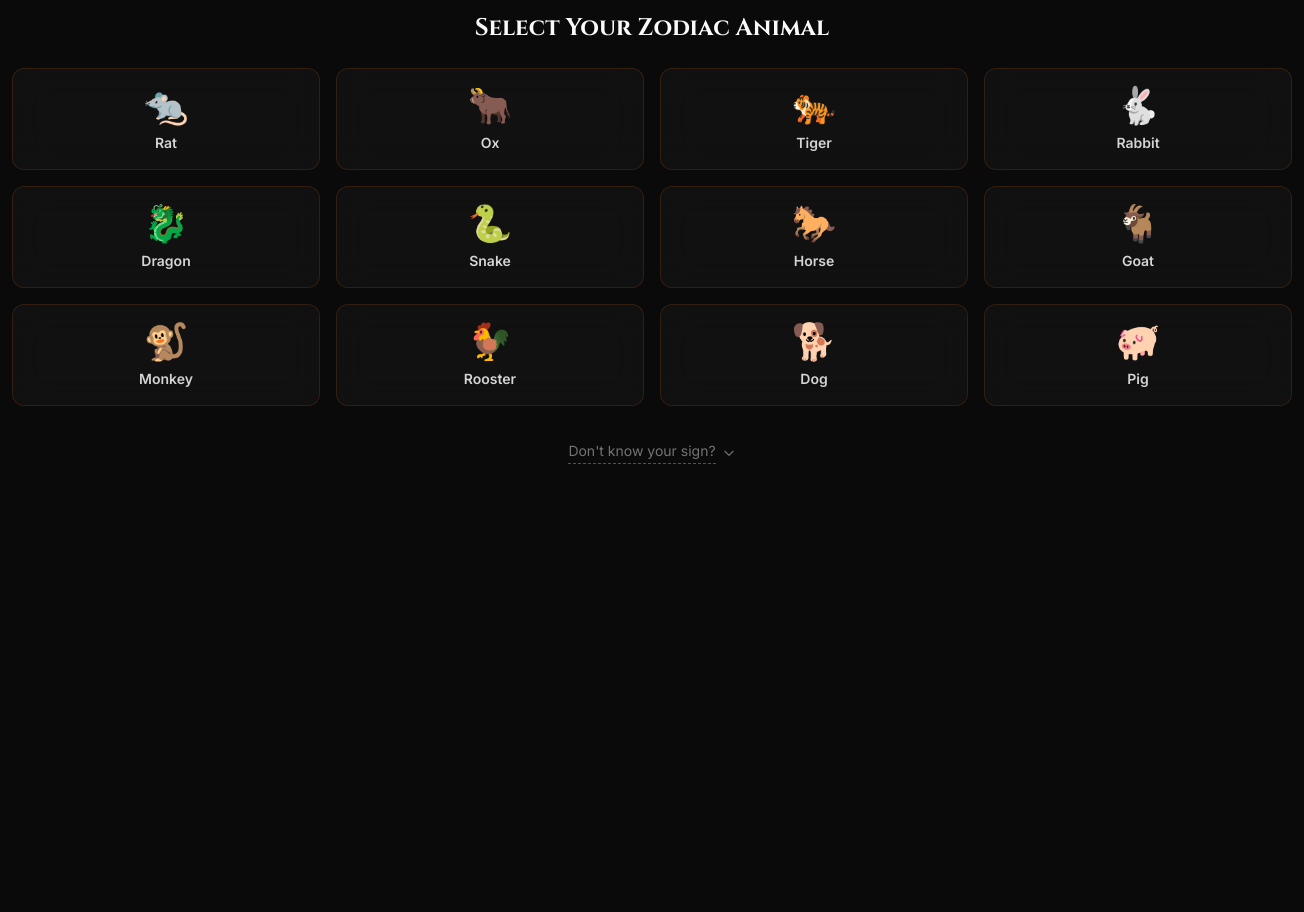
Scenario: ZodiacSelector › Birthdate Result › setting year=1990, month=3, day=15 shows Horse result with emoji
The width and height of the screenshot is (1304, 912).
Click the button "Don't know your sign?" at [652, 452], box [568, 441, 736, 464]
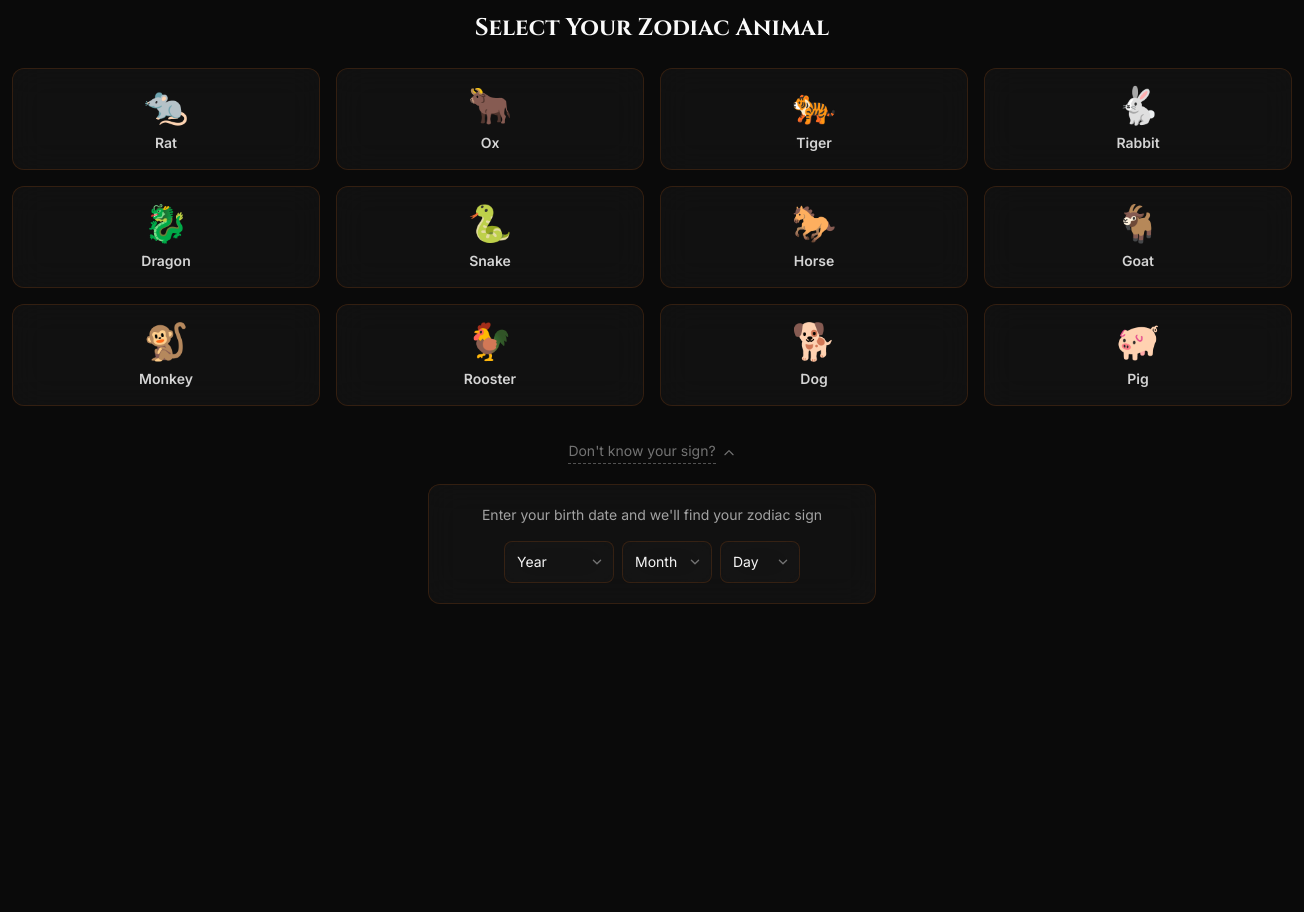
Select "1990" in the 1st dropdown at [559, 562], box [504, 541, 614, 583]
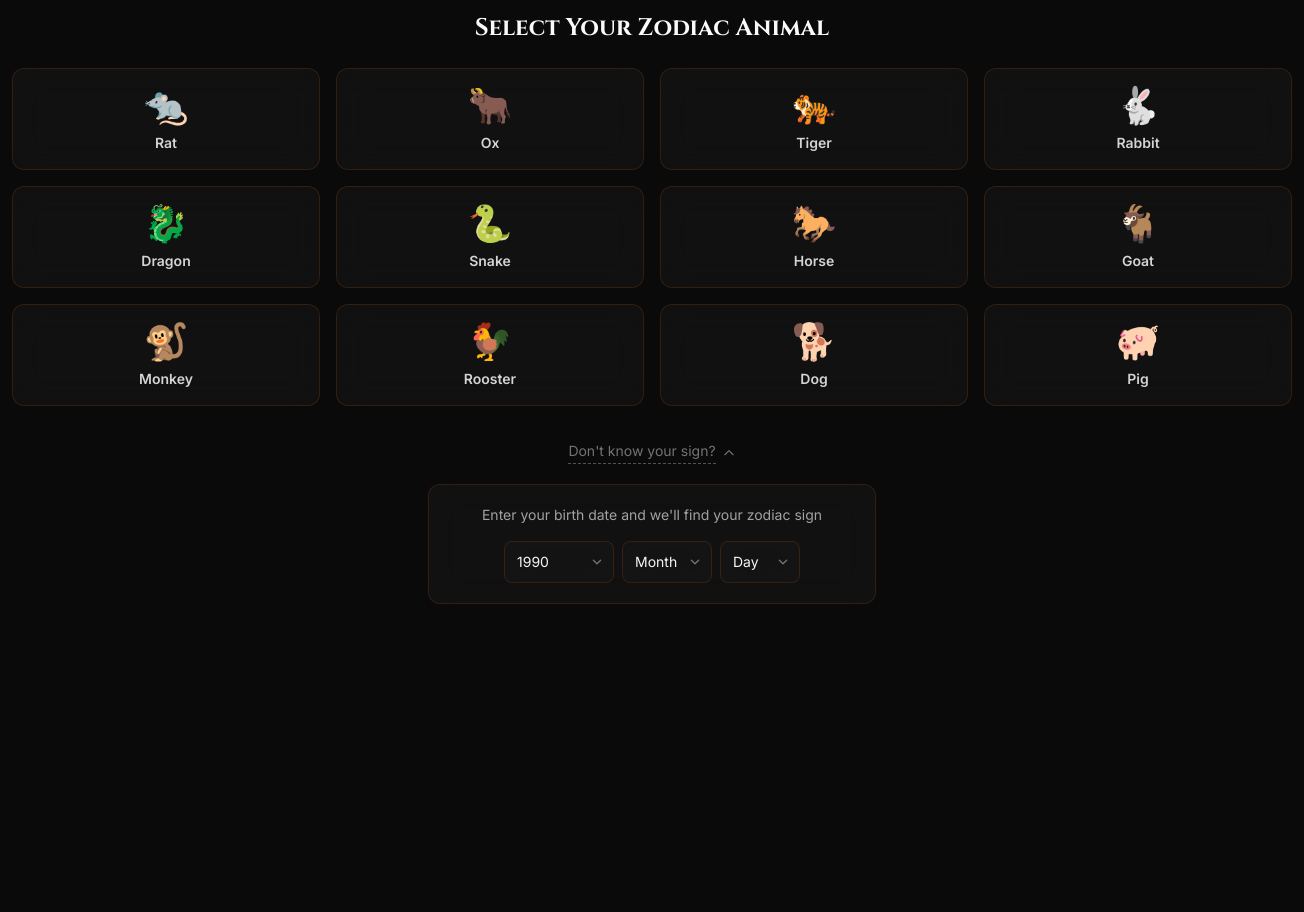
Select "Mar" in the 2nd dropdown at [667, 562], box [622, 541, 712, 583]
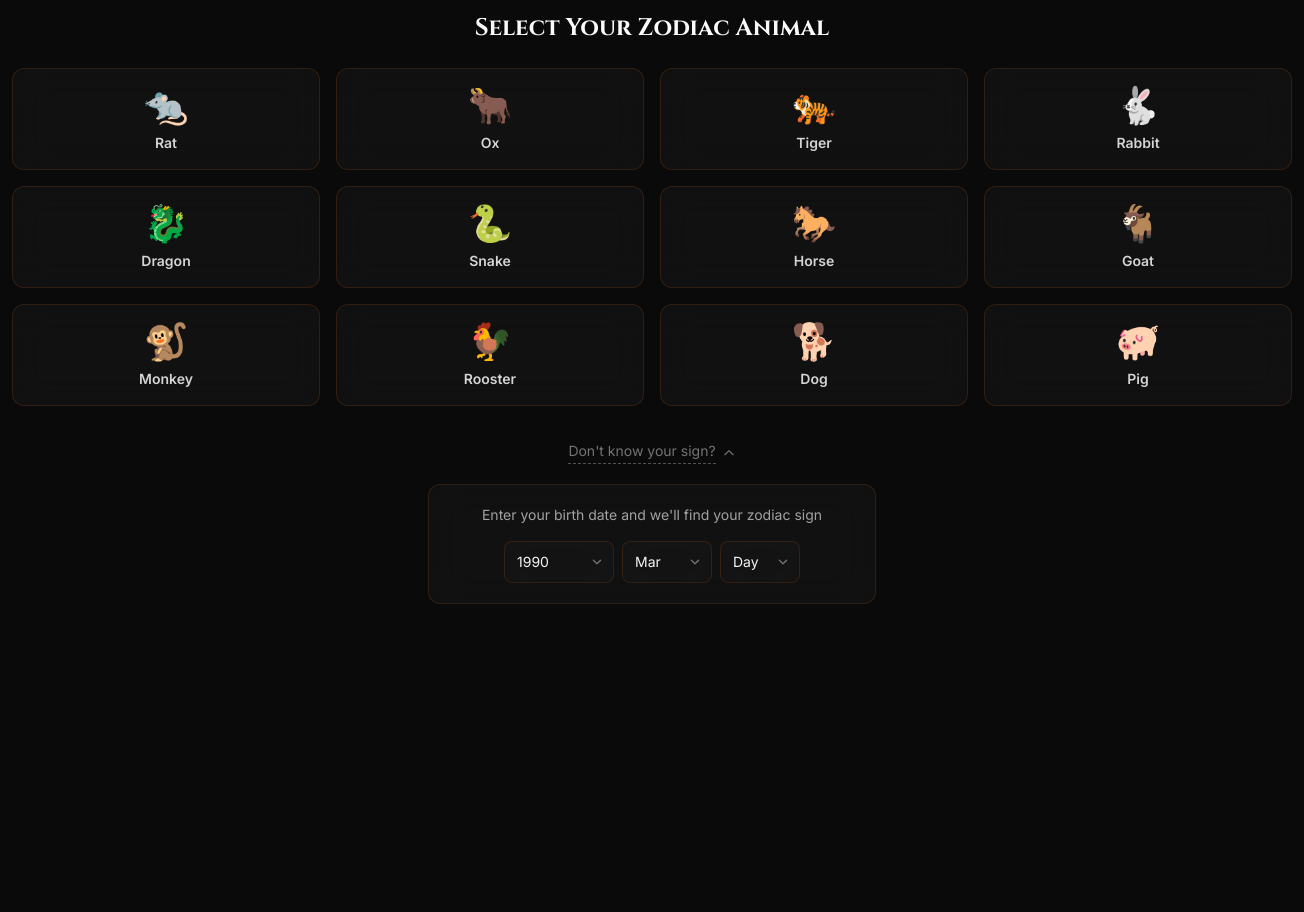
Select "15" in the 3rd dropdown at [760, 562], box [720, 541, 800, 583]
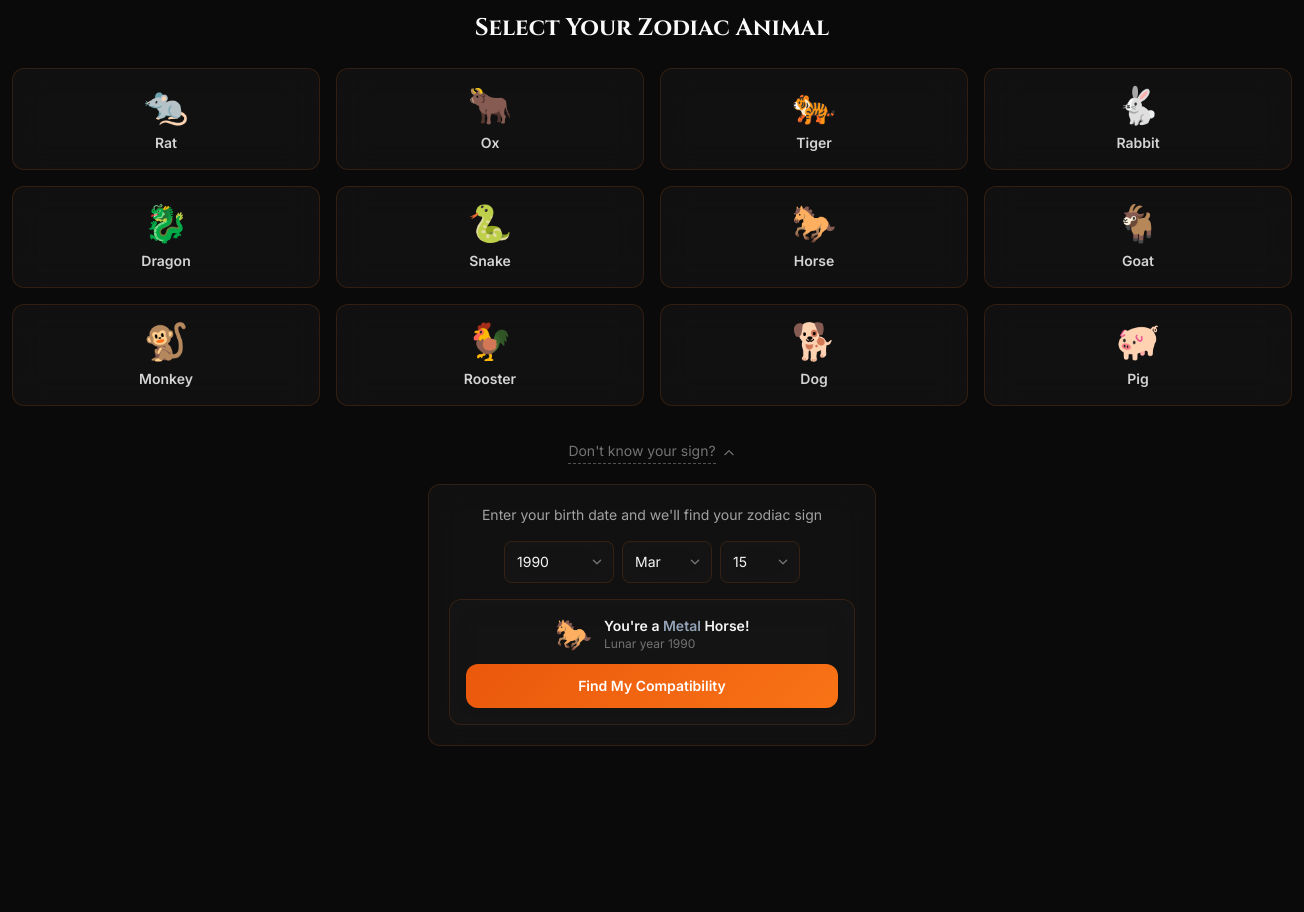
Expected: the text "Horse" is shown, [794, 252, 834, 269]
Result: the text "Metal" is shown at [663, 617, 701, 634]
